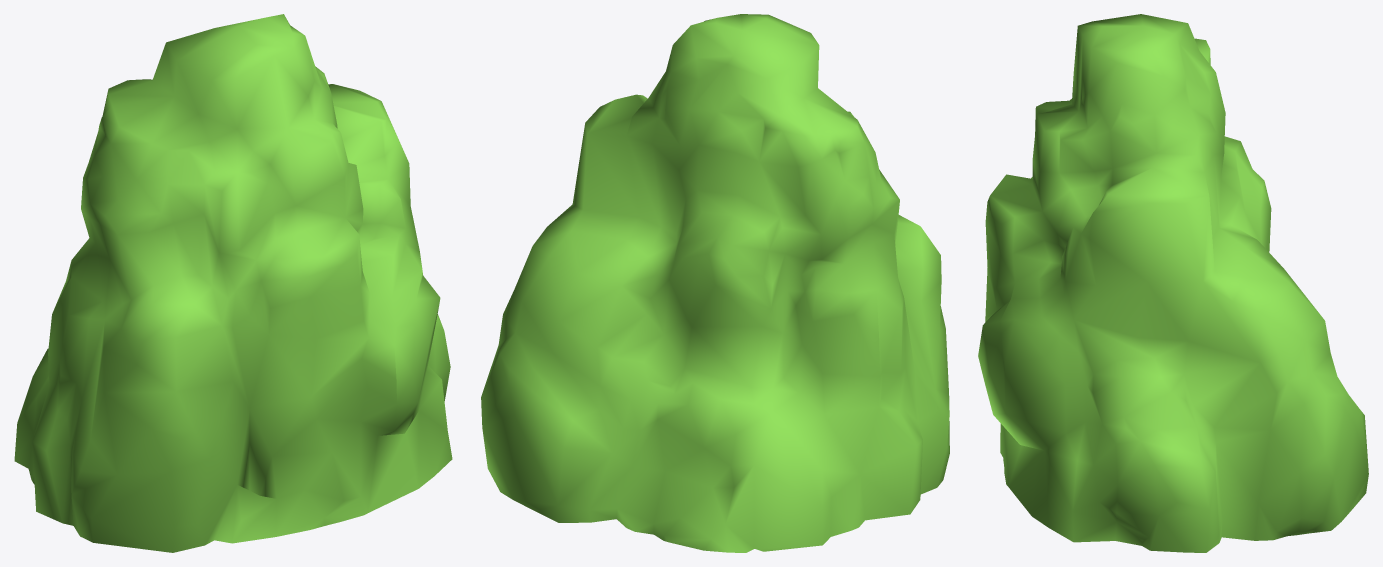
The model's file is rock_half_02.FBX.
The picture shows the model from 3 angles, left to right: view 1: azimuth 30°, elevation 25°; view 2: azimuth 150°, elevation 25°; view 3: azimuth 270°, elevation 25°; orthographic projection. The views are drawn at different scales.
Visible parts, largest first — view 1: rock_half_02; view 2: rock_half_02; view 3: rock_half_02.
Boxes of the visible parts, x1=… form: rock_half_02: x1=14, y1=14, x2=452, y2=552; rock_half_02: x1=481, y1=14, x2=949, y2=552; rock_half_02: x1=978, y1=14, x2=1368, y2=552.
Bounding box in the file's own units: 481 × 516 × 420.
